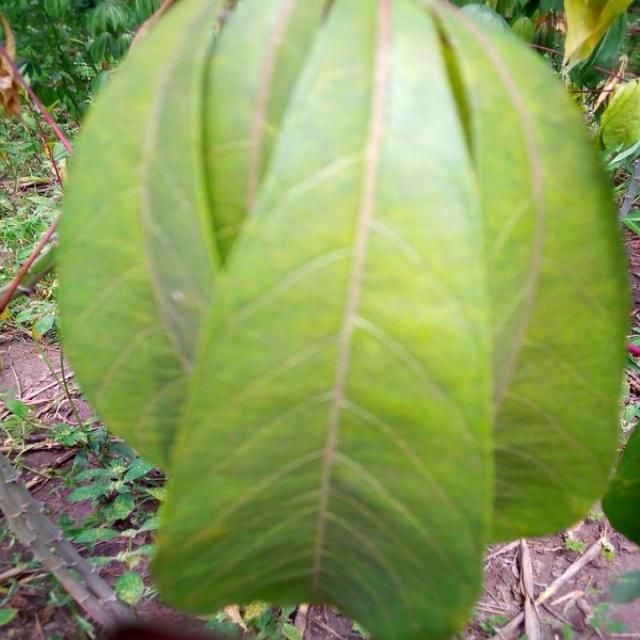cassava leaf: (55, 0, 633, 638)
